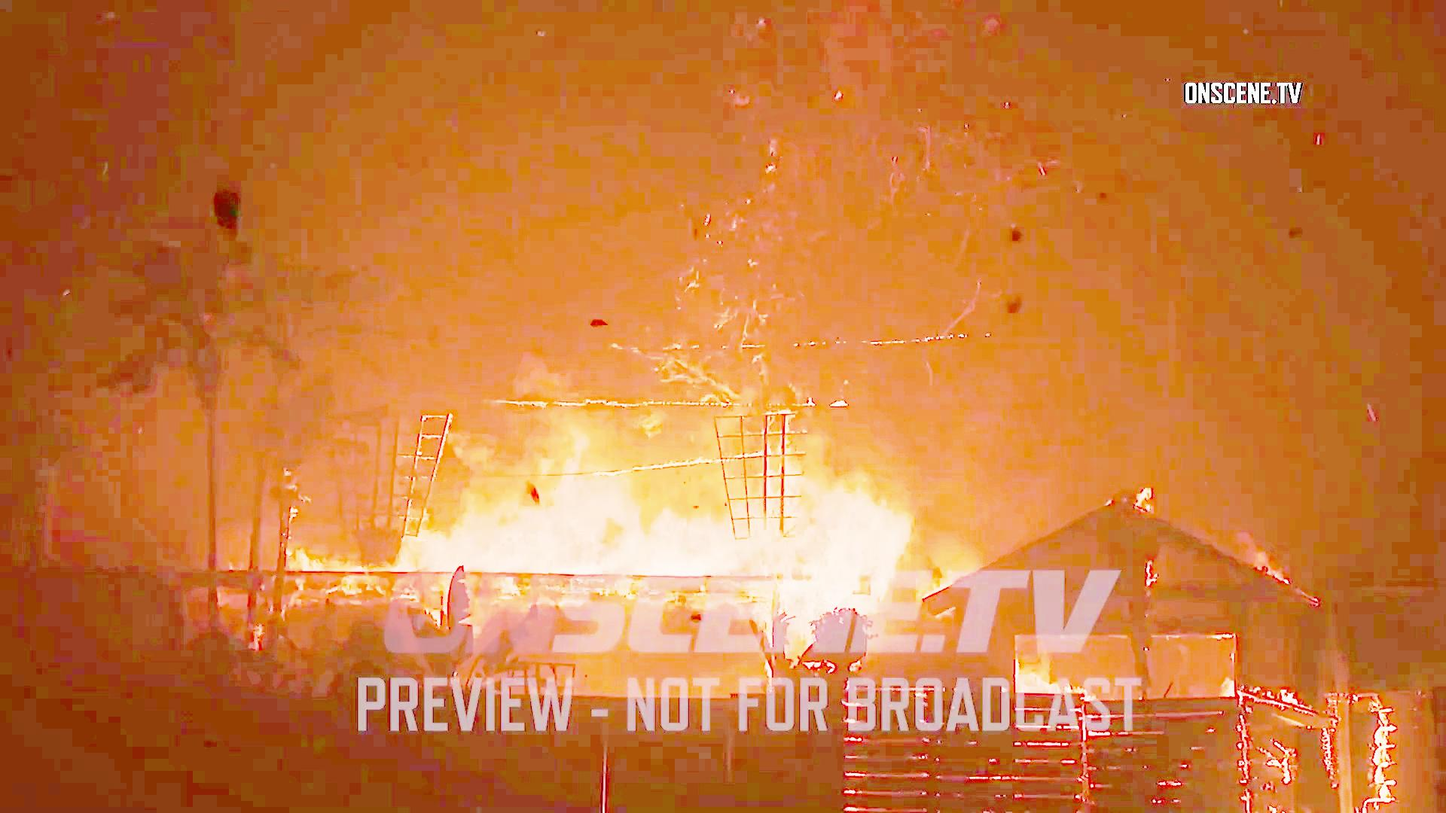fire: (390, 379, 900, 583)
